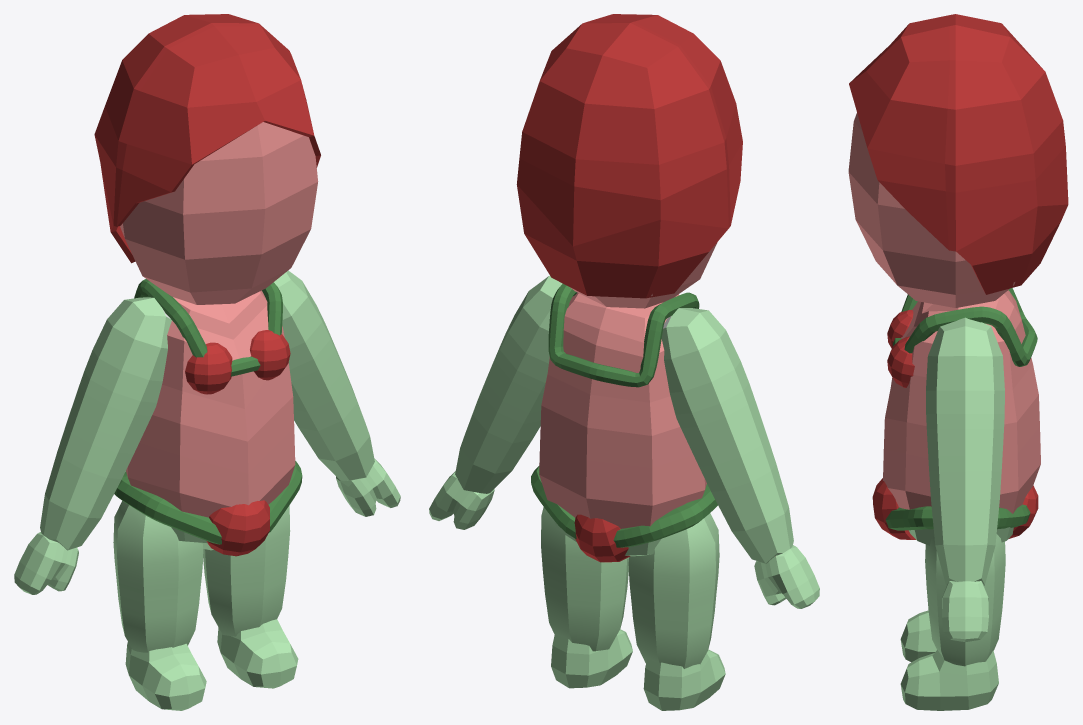
The model's file is Stripper.fbx.
3 renders of one model, left to right at view 1: azimuth 30°, elevation 25°; view 2: azimuth 150°, elevation 25°; view 3: azimuth 270°, elevation 25°, orthographic.
Visible parts, largest first — view 1: Stripper; view 2: Stripper; view 3: Stripper.
Part boxes in pixels (box(x1,y1,x2,y2)): Stripper: box(14, 14, 400, 710); Stripper: box(429, 14, 819, 710); Stripper: box(848, 14, 1068, 710).
Size of the model in its own units: 176 by 297 by 89.37.
